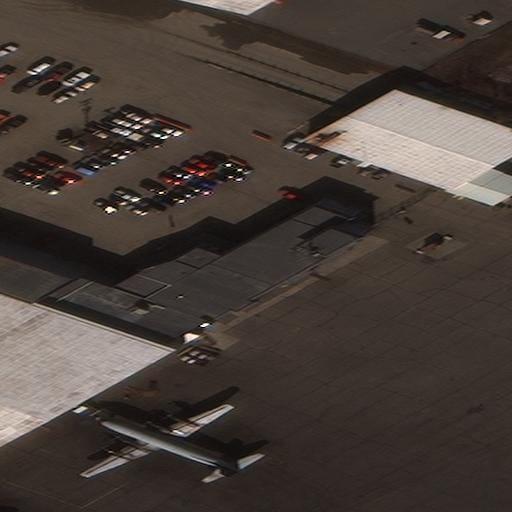Large Civil Transport: (78, 403, 239, 475)
